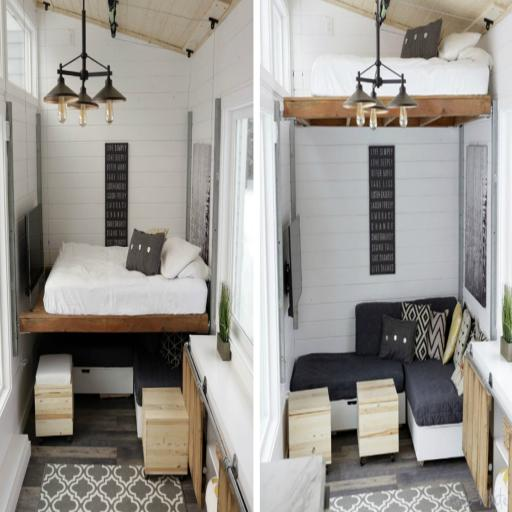bed: (287, 27, 494, 129), (20, 229, 211, 334), (312, 16, 494, 97), (43, 238, 211, 319)
sofa: (290, 296, 484, 465), (133, 335, 187, 440)
